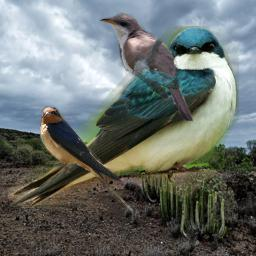Cuckoo: (98, 11, 193, 125)
Swallow: (8, 26, 239, 208), (39, 106, 134, 213)
